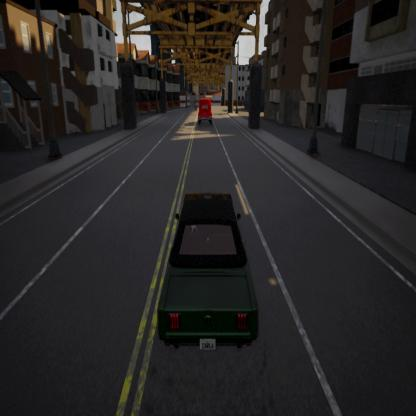Cars: (160, 194, 258, 351), (198, 94, 214, 129)
